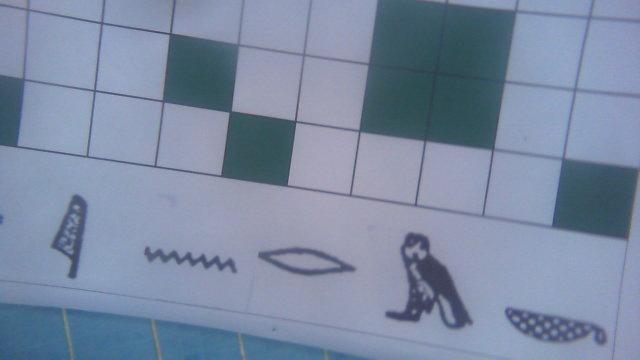Basket: (503, 301, 606, 348)
Mouth: (254, 244, 358, 281)
Owl: (384, 229, 473, 334)
Reed: (51, 190, 90, 281)
Water: (142, 240, 237, 279)
